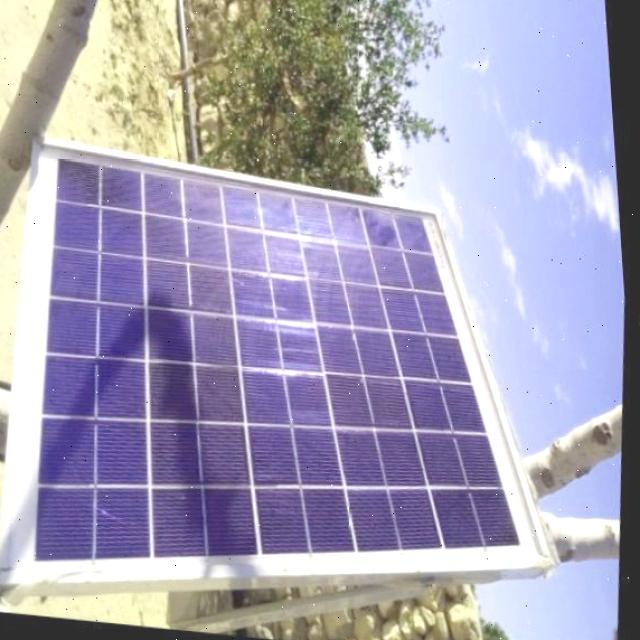Normal Solar Panel: (0, 140, 585, 637)
